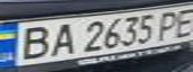2: (78, 18, 109, 53)
3: (121, 14, 142, 47)
5: (136, 11, 160, 44)
6: (103, 16, 127, 50)
A: (42, 20, 78, 57)
B: (9, 22, 57, 61)
E: (169, 6, 193, 38)
P: (154, 8, 184, 41)
